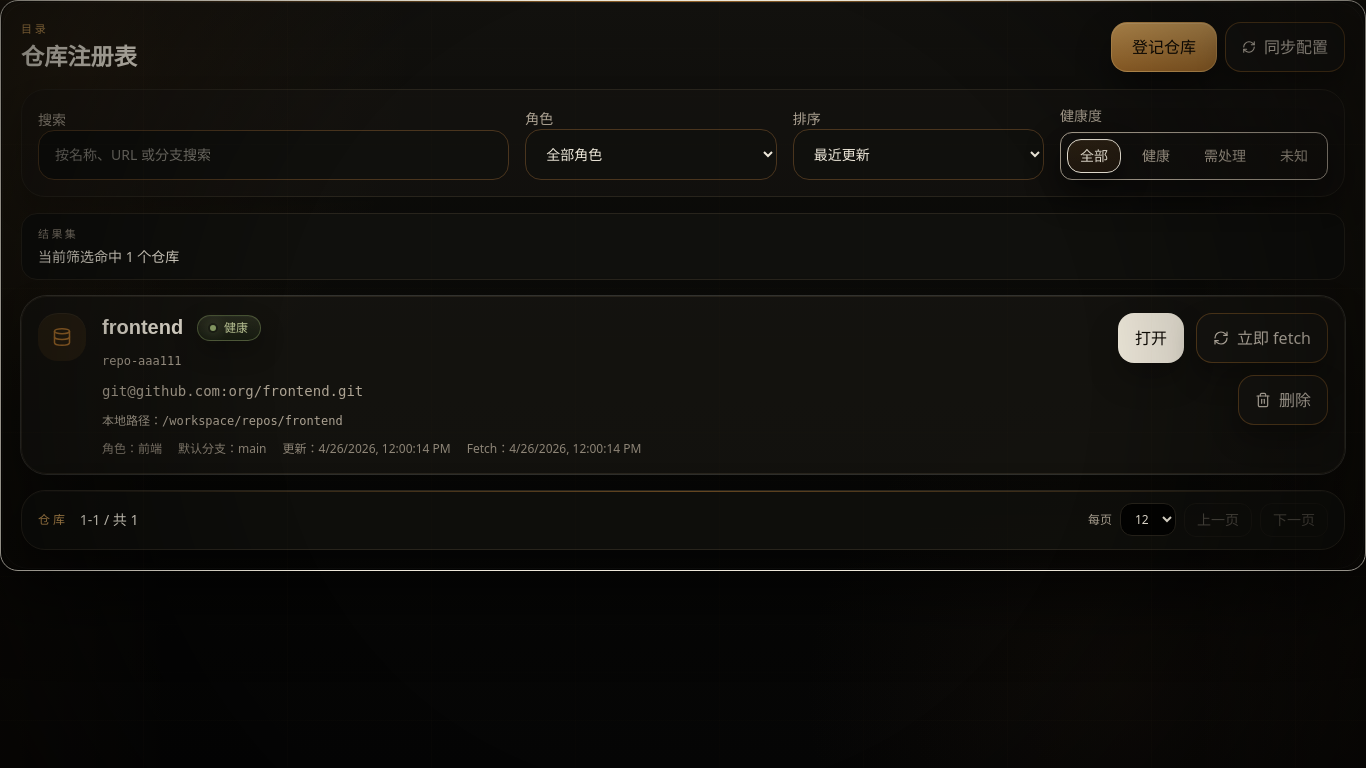
it: ReposPage › syncs repos and shows the report counts
Click the button "同步配置" at (1285, 47), box [1225,22,1345,72]
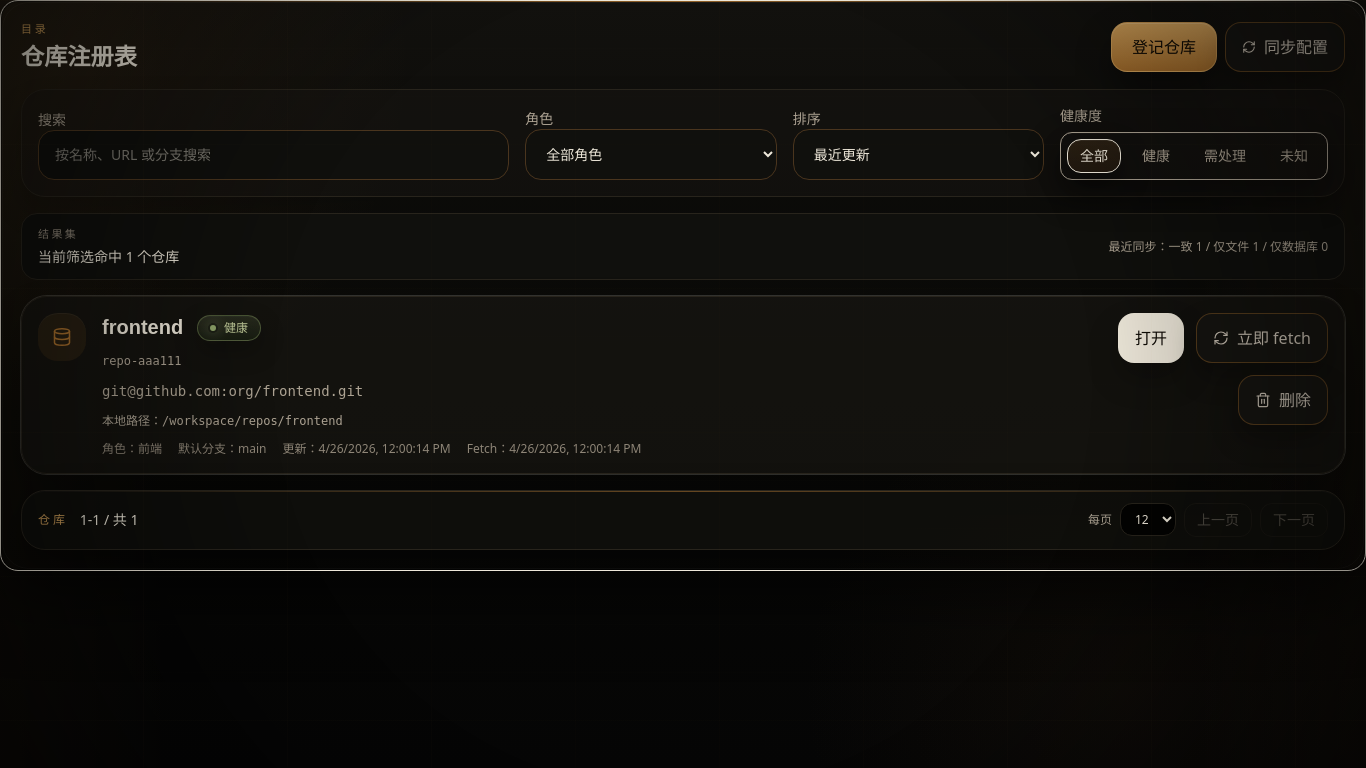
Check: the text "最近同步：一致 1 / 仅文件 1 / 仅数据库 0" is shown, box [1109,239,1328,255]
